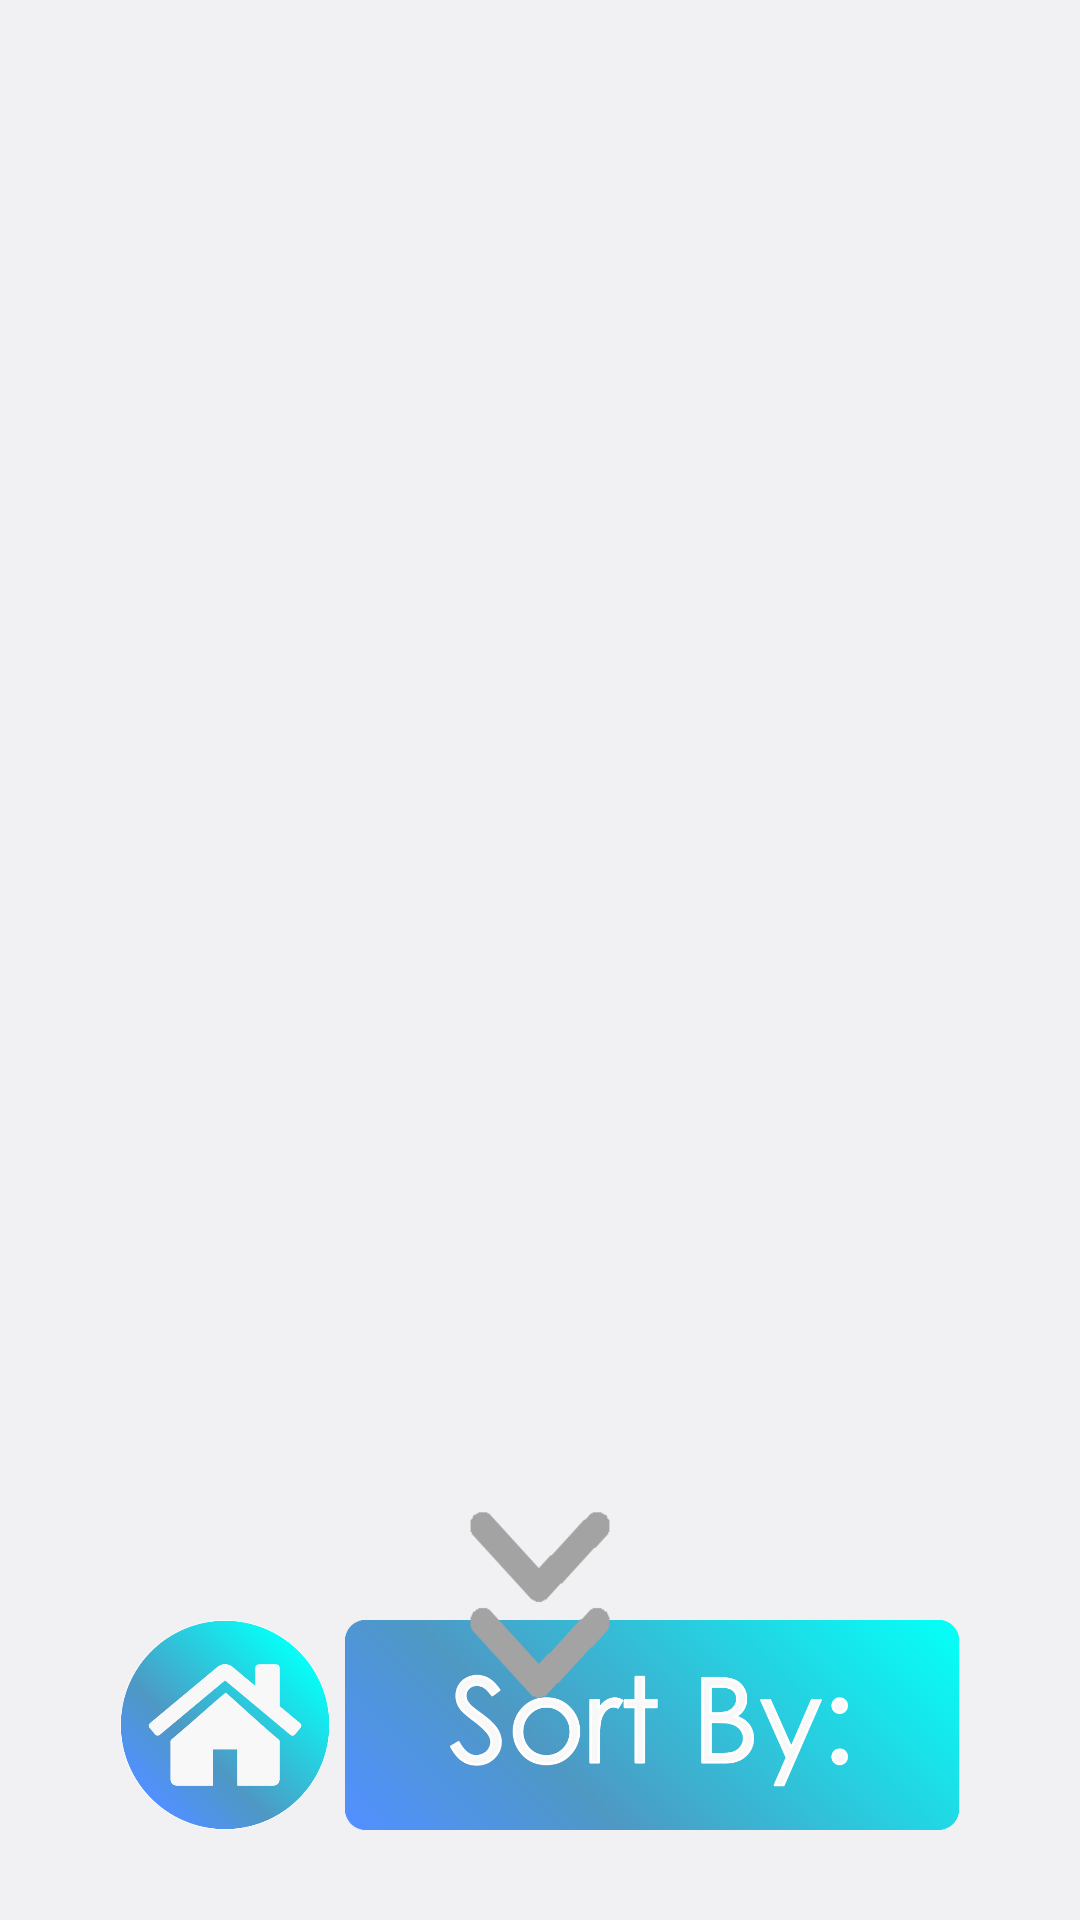

Locate icon controls on the screen. Image size 1080 × 1920, boxes as [x1=x1, y1=y1, x2=x2, y2=y2].
home: [x1=121, y1=1621, x2=329, y2=1829]
two arrow: [x1=465, y1=1512, x2=615, y2=1710]
